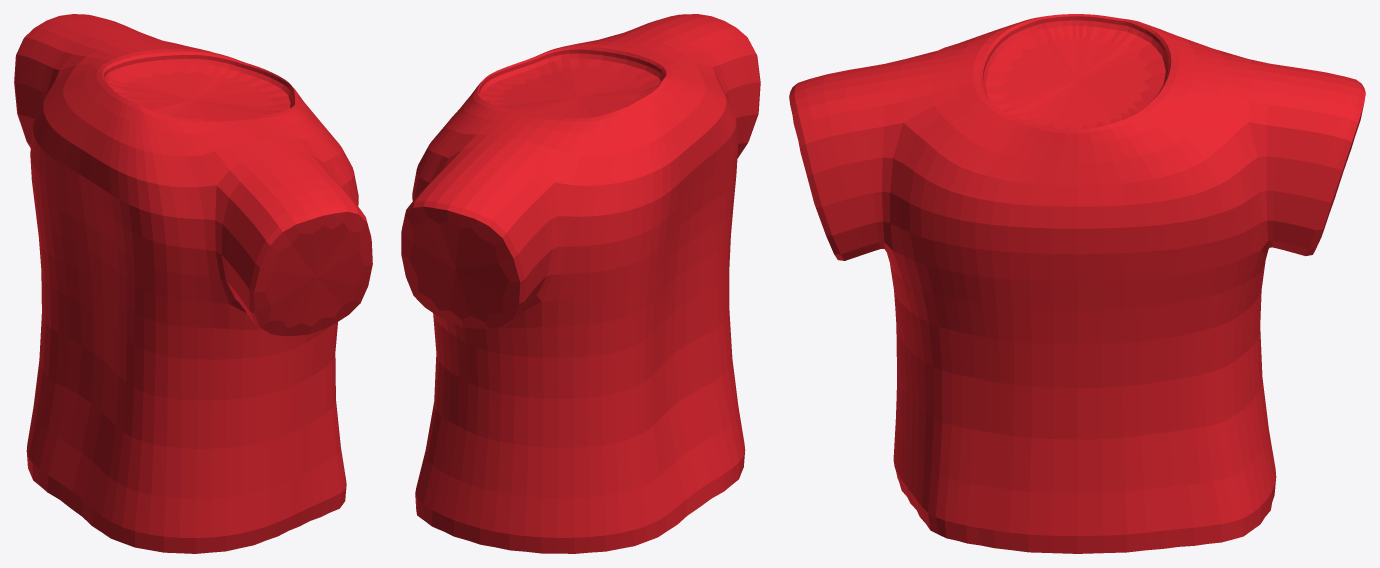
The model's file is tshirt.fbx.
3 renders of one model, left to right at view 1: azimuth 30°, elevation 25°; view 2: azimuth 150°, elevation 25°; view 3: azimuth 270°, elevation 25°, orthographic. The views are drawn at different scales.
Parts seen in each view (by area): view 1: Cylinder; view 2: Cylinder; view 3: Cylinder.
Boxes of the visible parts, x1=… form: Cylinder: x1=14, y1=14, x2=372, y2=553; Cylinder: x1=401, y1=14, x2=760, y2=553; Cylinder: x1=789, y1=14, x2=1365, y2=553.
Bounding box in the file's own units: 46.6 × 73.88 × 87.09.
